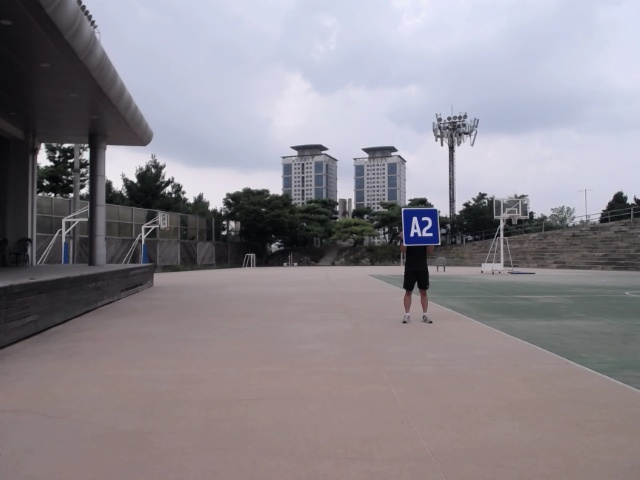delivery_a2: (403, 208, 440, 245)
